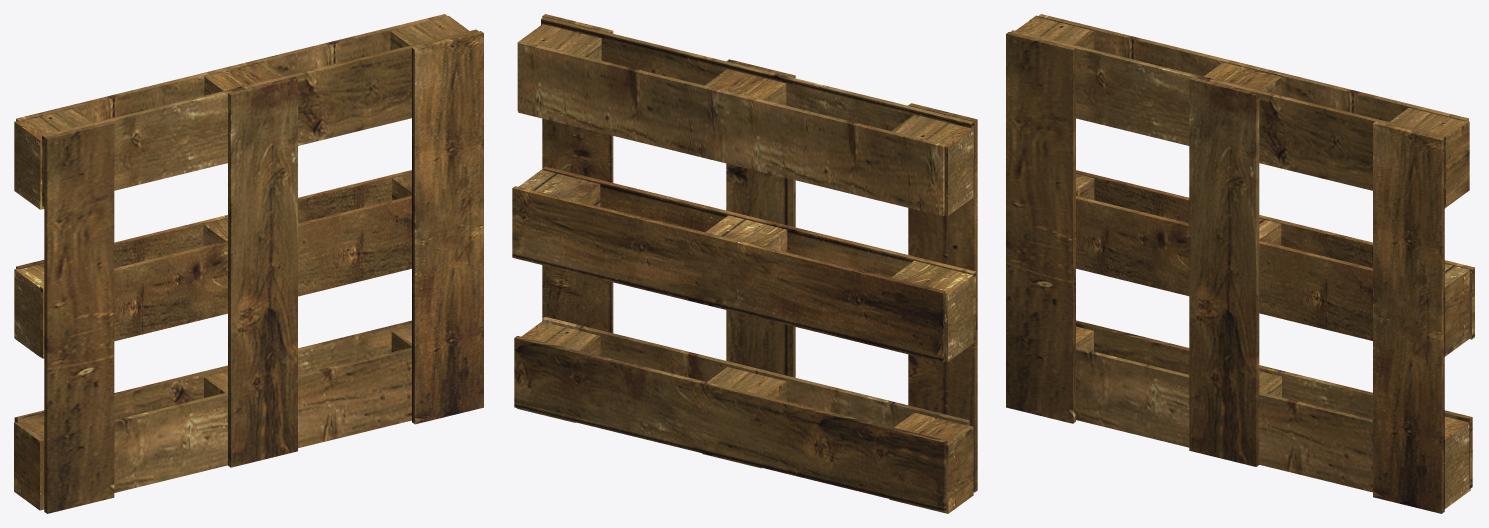
File: Old_Pallet.FBX
3 renders of one model, left to right at view 1: azimuth 30°, elevation 25°; view 2: azimuth 150°, elevation 25°; view 3: azimuth 330°, elevation 25°, orthographic.
Visible parts, largest first — view 1: Box50; view 2: Box50; view 3: Box50.
Part boxes in pixels (box(x1,y1,x2,y2)): Box50: box(14, 14, 483, 513); Box50: box(512, 14, 977, 513); Box50: box(1006, 14, 1474, 513).
Bounding box in the file's own units: 73.51 × 60.07 × 9.62.
